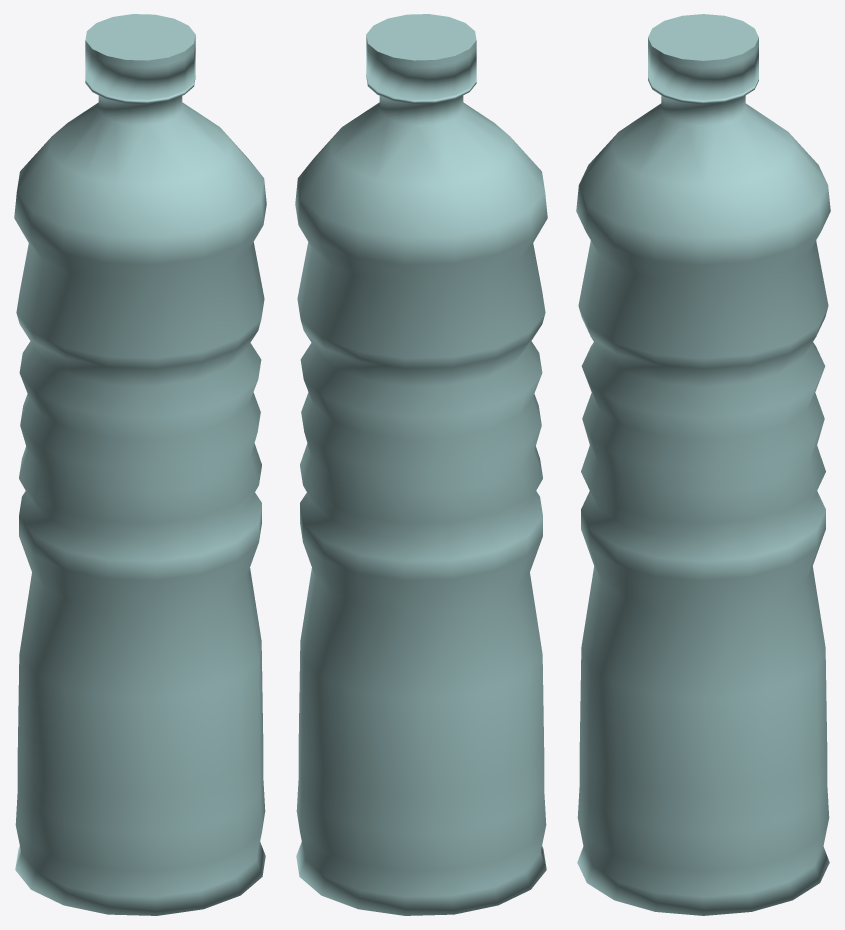
Rendered from bottle.dae.
The picture shows the model from 3 angles, left to right: view 1: azimuth 30°, elevation 25°; view 2: azimuth 150°, elevation 25°; view 3: azimuth 270°, elevation 25°; orthographic projection.
Visible parts, largest first — view 1: Circle_000; view 2: Circle_000; view 3: Circle_000.
Boxes of the visible parts, x1,y1,x2,y2 form: Circle_000: (14, 14, 266, 915); Circle_000: (295, 14, 547, 915); Circle_000: (576, 14, 830, 915).
Size of the model in its own units: 2.02 by 2.02 by 7.21.
